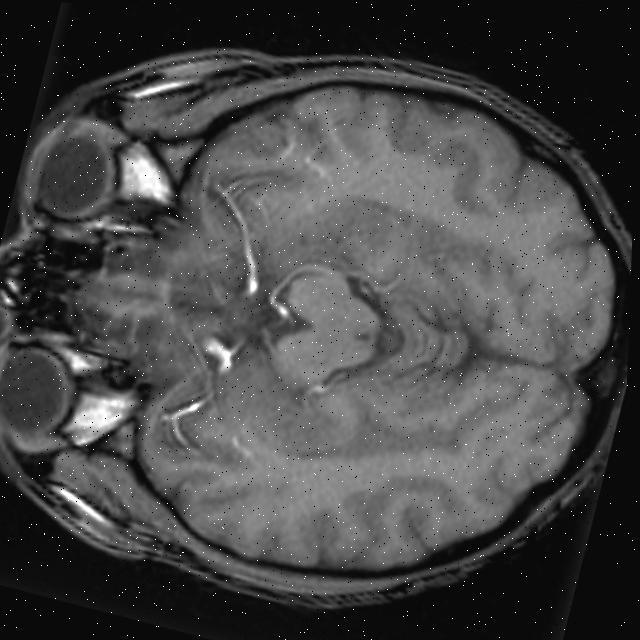NoTumor: (99, 7, 640, 640)
